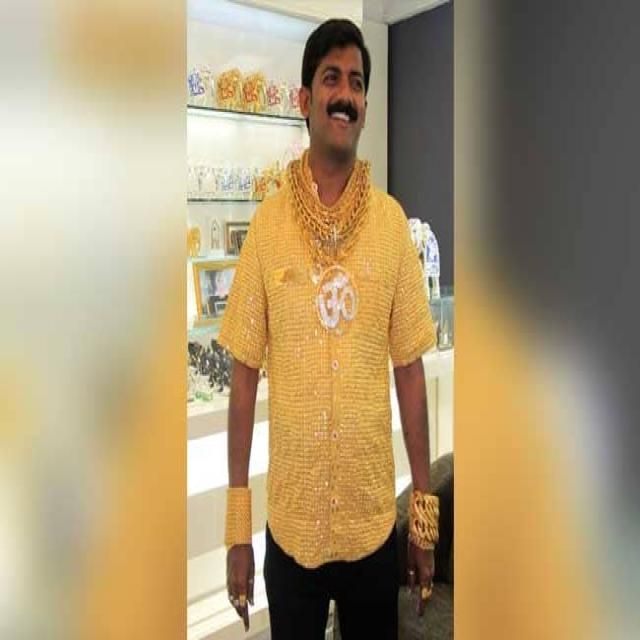human: (210, 14, 449, 638)
